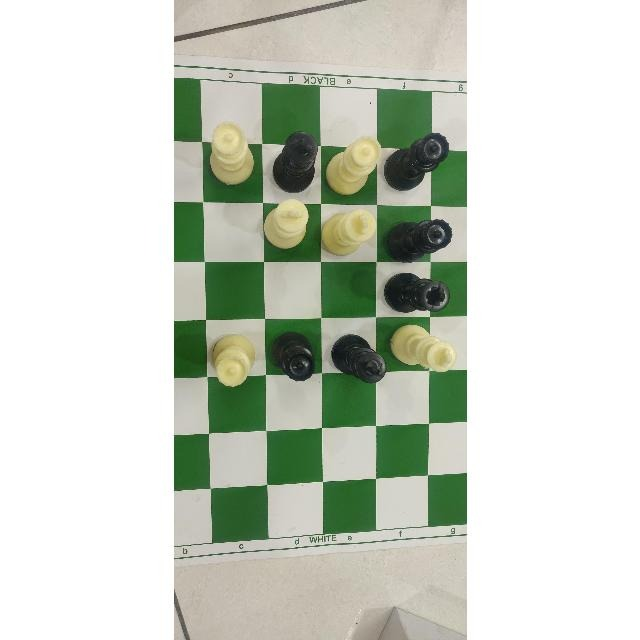black-king: (266, 125, 324, 198), (328, 326, 390, 388), (381, 267, 450, 316)
black-queen: (381, 128, 450, 193), (381, 214, 454, 266), (263, 326, 322, 388)
white-king: (387, 317, 459, 382), (315, 206, 379, 264), (258, 195, 309, 257)
white-queen: (321, 132, 383, 201), (200, 121, 258, 193), (206, 329, 258, 397)
